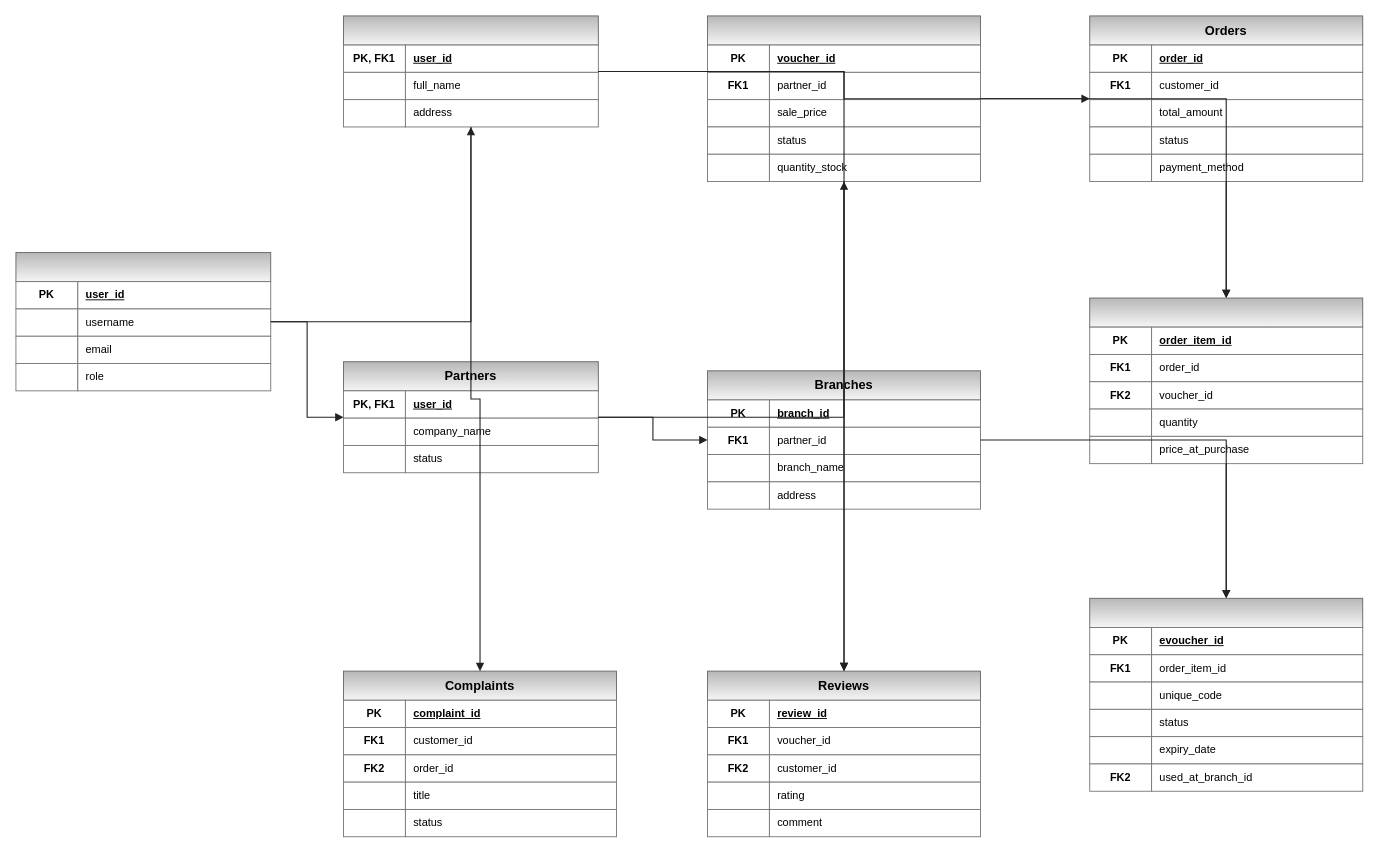
This 1379x853 diagram has some shape labels left out. The box of each missing label's shape, as (x1, y1, x2, y2) in pixels:
Customers: (343, 15, 598, 45)
E_Vouchers: (1089, 597, 1363, 627)
Order_Items: (1089, 297, 1363, 327)
Users: (15, 252, 271, 282)
Vouchers: (707, 15, 981, 45)
